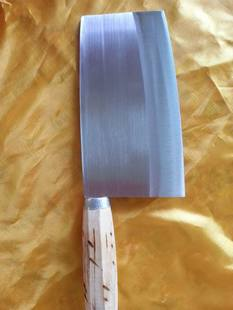knief: (69, 15, 196, 304)
